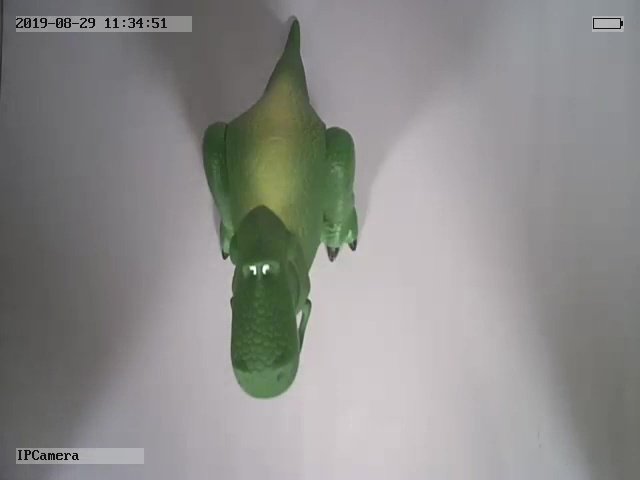rex: (202, 16, 362, 401)
